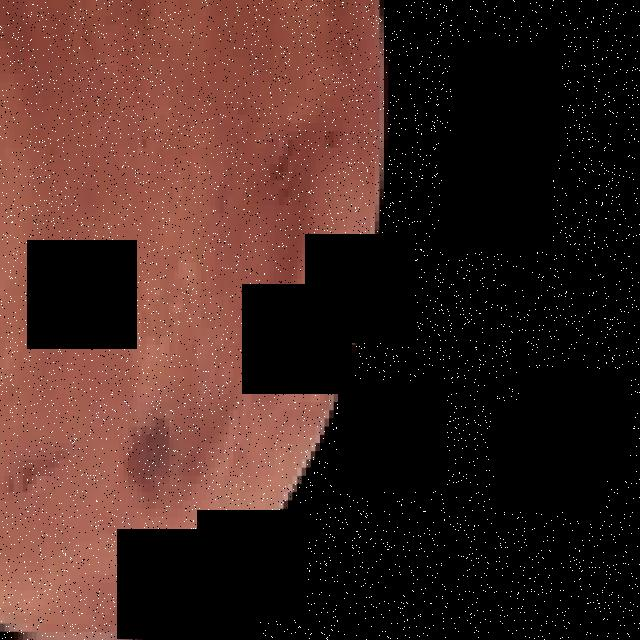Mars: (1, 0, 388, 640)
